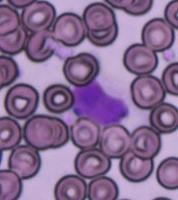M: (71, 73, 134, 127)
